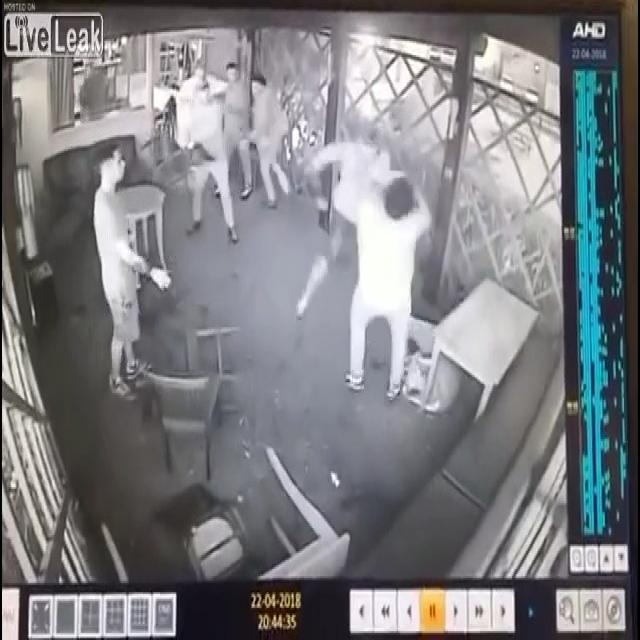fight: (318, 106, 443, 396)
